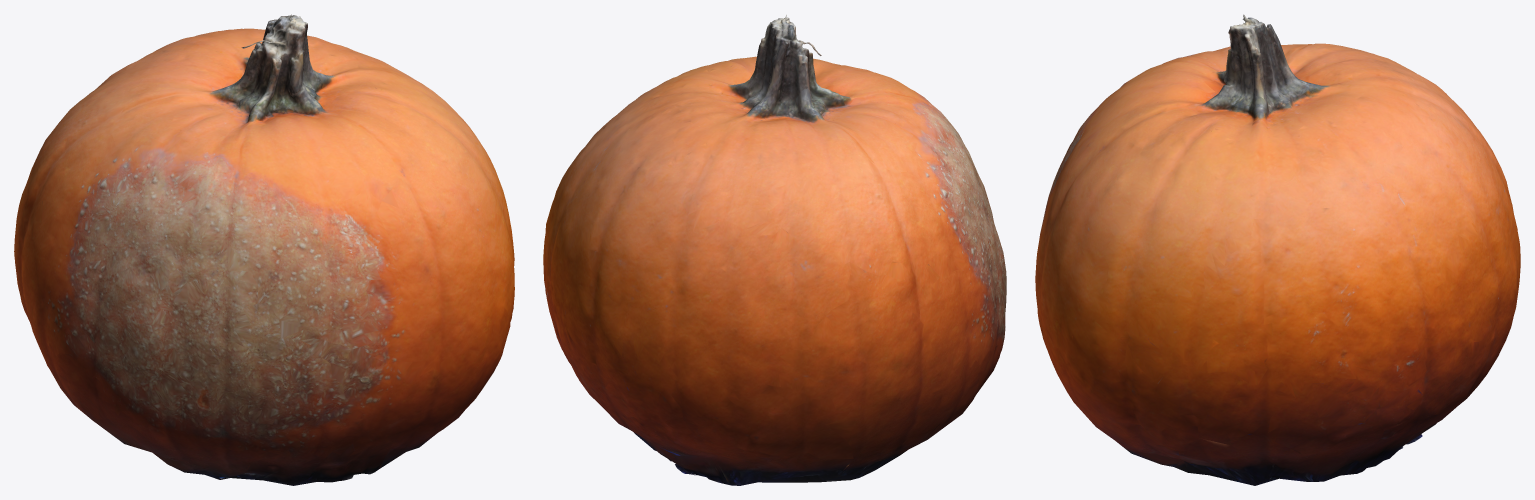
Rendered from pumpkin_8d35be41.glb.
3 views of the same model, side by side, from view 1: azimuth 30°, elevation 25°; view 2: azimuth 150°, elevation 25°; view 3: azimuth 270°, elevation 25° (orthographic). The views are drawn at different scales.
Visible parts, largest first — view 1: Pumkin_1; view 2: Pumkin_1; view 3: Pumkin_1.
Part boxes in pixels (x1=…): Pumkin_1: x1=14, y1=14, x2=514, y2=485; Pumkin_1: x1=543, y1=14, x2=1006, y2=485; Pumkin_1: x1=1035, y1=14, x2=1520, y2=485.
Size of the model in its own units: 1.25 by 1.18 by 1.25.
Materials: 1 (1 with a texture image).
